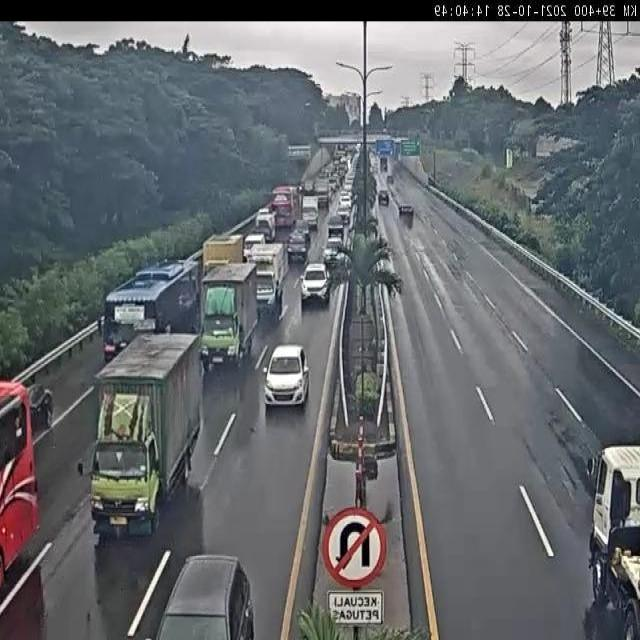Bus: (95, 256, 204, 372), (271, 186, 299, 228)
Car: (262, 343, 310, 408), (299, 261, 332, 306), (287, 222, 311, 260), (324, 236, 344, 264), (379, 191, 389, 206)
Truck: (90, 332, 204, 534), (200, 260, 265, 375), (248, 240, 288, 320), (203, 234, 245, 278), (301, 196, 320, 230)
